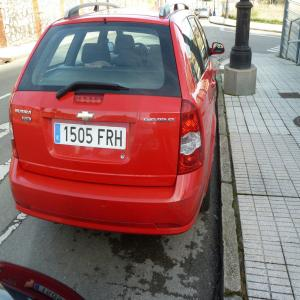Vehicle-registration-plate: (55, 123, 126, 151)
